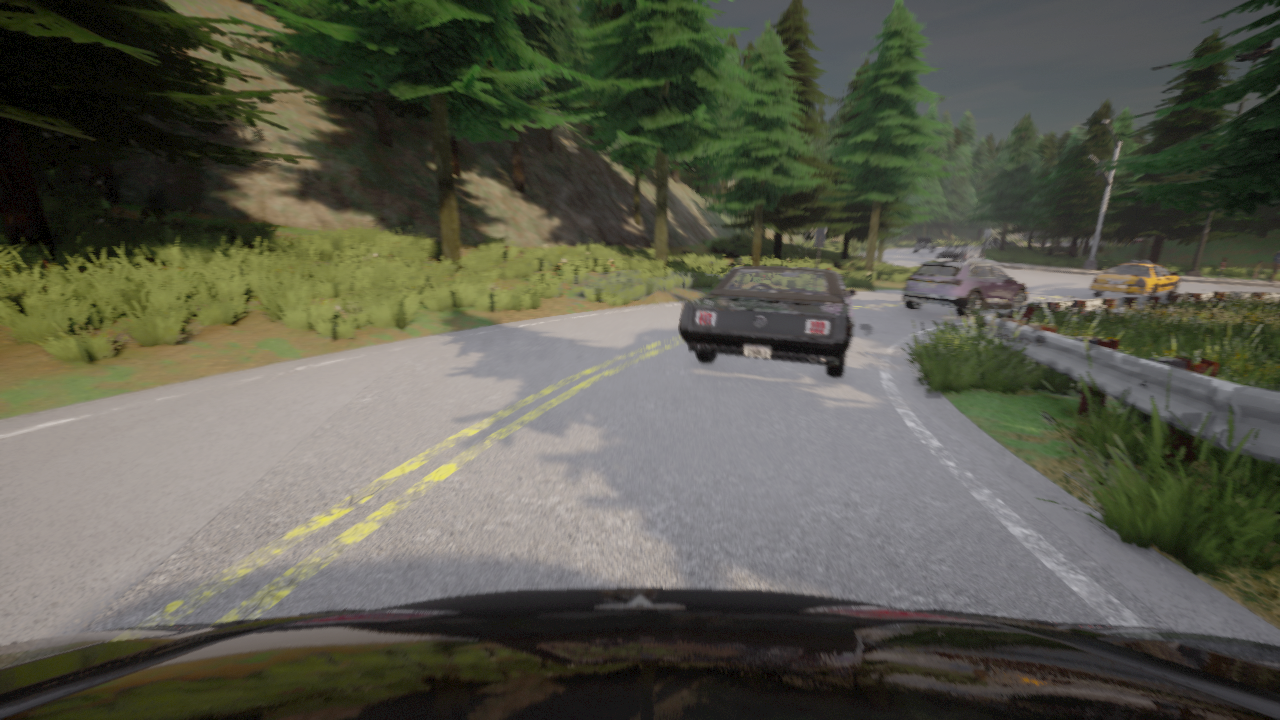cyclist: (0, 588, 1279, 719), (679, 267, 855, 376), (901, 259, 1027, 317), (1089, 260, 1180, 296), (934, 245, 984, 260), (913, 236, 935, 253), (981, 238, 1015, 247), (1130, 238, 1141, 244)
pedestrian: (1268, 251, 1279, 282), (1216, 258, 1227, 280), (1251, 260, 1262, 281)
